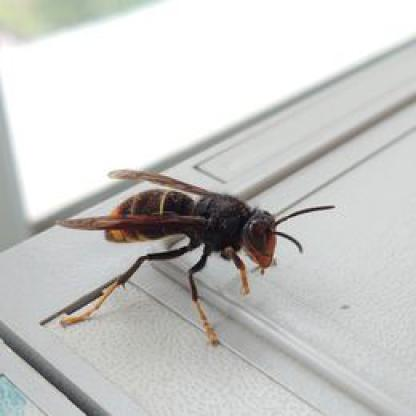Asian Hornet: (59, 150, 304, 350)
